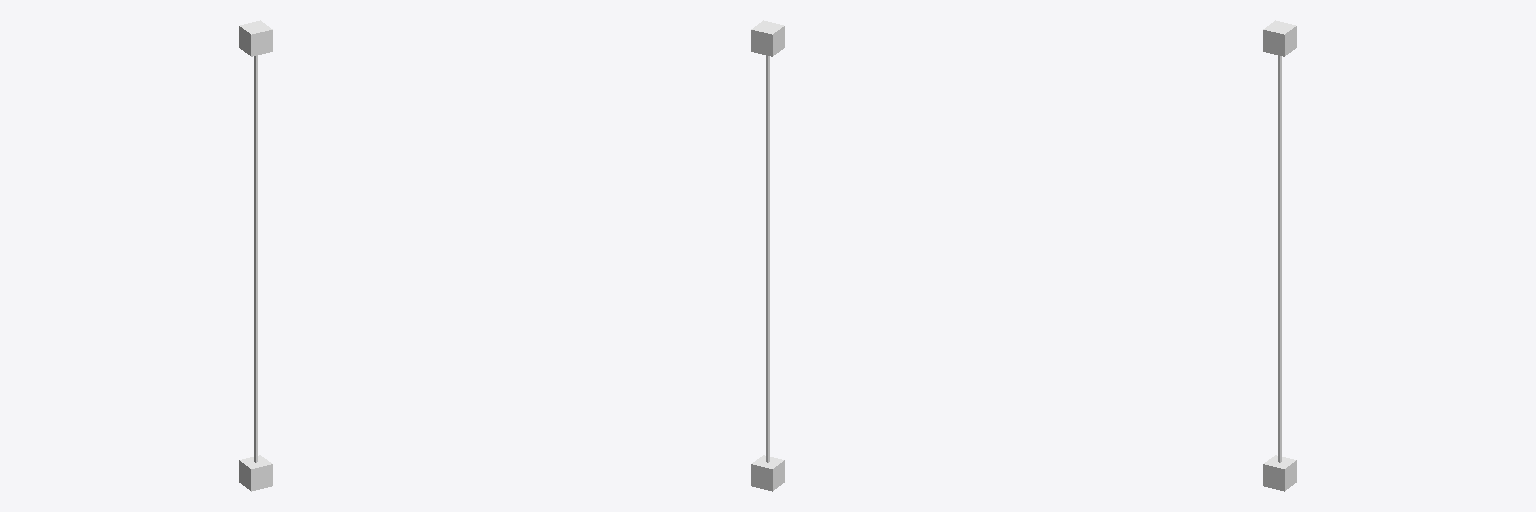
robot.urdf — pole100:
<?xml version="1.0" ?>

<robot name="pole100">
    <link name="base">
        <visual>
  	    <origin xyz="0 0 0" rpy="0 0 0" />
	    <geometry> <box size="0.05 0.05 0.05"/> </geometry>
	    <material name=""> <color rgba="1.0 1.0 1.0 1.0" /> </material>
	</visual>
	<collision>
	    <origin xyz="0 0 0" rpy="0 0 0" />
	    <geometry> <box size="0.05 0.05 0.05"/> </geometry>
	</collision>
	<inertial>
	    <origin xyz="0 0 0" rpy="0 0 0" />
	    <mass value="0.5" />
	    <inertia ixx="0.001" ixy="0" ixz="0" iyy="0.001" iyz="0" izz="0.001" />
	</inertial>
    </link>
    <gazebo reference="base"> <material>Gazebo/Black</material> </gazebo>

    <joint name="jointRedpole1" type="fixed">
        <parent link="base"/>
	<child  link="pole"/>
	<origin xyz="0 0 0.4875" rpy="0 0 0"/>
    </joint>
  
    <link name="pole">
        <visual>
	    <origin xyz="0 0 0" rpy="0 0 0" />
	    <geometry> <box size="0.005 0.005 0.925"/> </geometry>
	    <material name=""> <color rgba="1.0 1.0 1.0 1.0" /> </material>
	</visual>
	<collision>
            <origin xyz="0 0 0" rpy="0 0 0" />
	    <geometry> <box size="0.005 0.005 0.925"/> </geometry>
	</collision>
	<inertial>
	    <origin xyz="0 0 0" rpy="0 0 0" />
	    <mass value="0.1" />
	    <inertia ixx="0.001" ixy="0" ixz="0" iyy="0.001" iyz="0" izz="0.001" />
	</inertial>
    </link>
    <gazebo reference="pole"> <material>Gazebo/Black</material> </gazebo>

    <joint name="jointRedpole2" type="fixed">
        <parent link="pole"/>
	<child  link="top"/>
	<origin xyz="0 0 0.4875" rpy="0 0 0"/>
    </joint>
  
    <link name="top">
        <visual>
	    <origin xyz="0 0 0" rpy="0 0 0" />
	    <geometry> <box size="0.05 0.05 0.05"/> </geometry>
	    <material name=""> <color rgba="1.0 1.0 1.0 1.0" /> </material>
	</visual>
	<collision>
	    <origin xyz="0 0 0" rpy="0 0 0" />
	    <geometry> <box size="0.05 0.05 0.05"/> </geometry>
	</collision>
	<inertial>
	    <origin xyz="0 0 0" rpy="0 0 0" />
	    <mass value="0.5" />
	    <inertia ixx="0.001" ixy="0" ixz="0" iyy="0.001" iyz="0" izz="0.001" />
	</inertial>
    </link>
   <gazebo reference="top"> <material>Gazebo/Red</material> </gazebo>

</robot>

--- Render facts (derived) ---
The picture shows the robot from 3 angles, left to right: view 1: azimuth 30°, elevation 25°; view 2: azimuth 150°, elevation 25°; view 3: azimuth 330°, elevation 25°; orthographic projection.
Model pole100 with 3 links and 2 joints (2 fixed), rooted at base, posed every joint at zero.
Visible links, largest first — view 1: pole, top, base; view 2: pole, top, base; view 3: pole, top, base.
Boxes of the visible links, x1,y1,x2,y2 form: pole: [254, 55, 257, 462]; top: [239, 20, 272, 56]; base: [239, 455, 272, 491]; pole: [766, 55, 769, 462]; top: [751, 20, 784, 56]; base: [751, 455, 784, 491]; pole: [1278, 55, 1281, 462]; top: [1263, 20, 1296, 56]; base: [1263, 455, 1296, 491].
Size in the robot's own frame: 0.05 by 0.05 by 1.02 metres.
Geometry: primitives only (box / cylinder / sphere), no mesh files.
